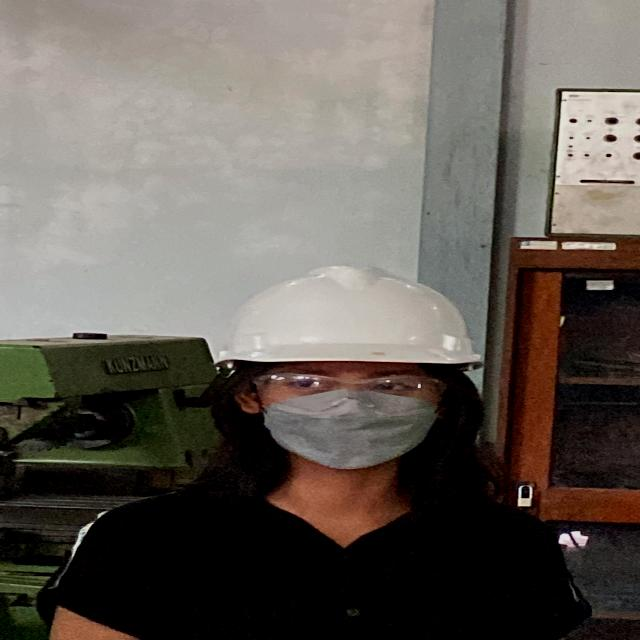face_mask: (255, 366, 446, 466)
glasses: (250, 368, 457, 414)
head_helmet: (205, 263, 490, 372)
person: (26, 257, 606, 640)
